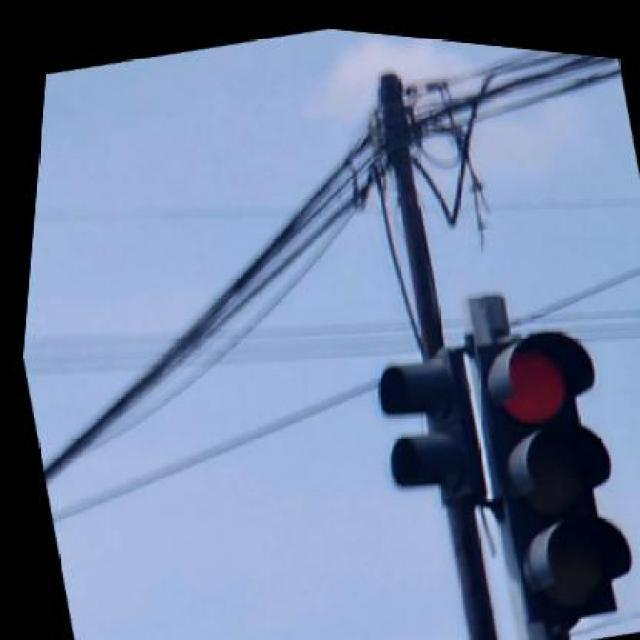red_light: (466, 293, 629, 638)
